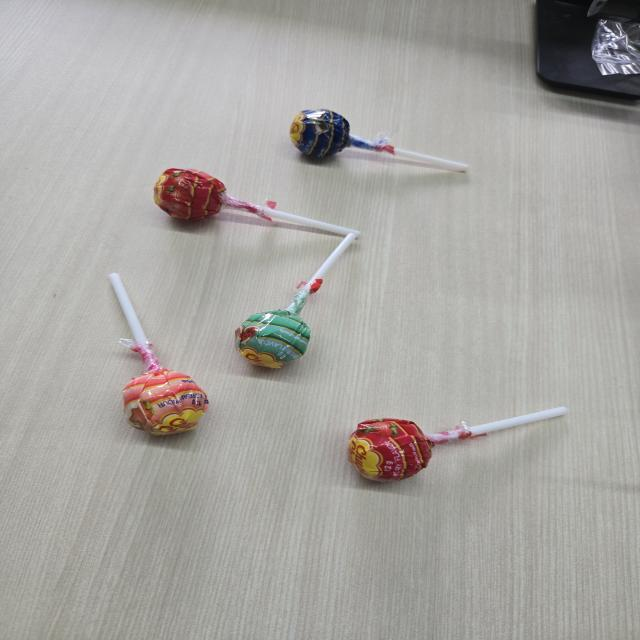lollipop: (227, 230, 360, 376), (108, 267, 214, 442), (349, 406, 573, 488), (147, 162, 363, 241), (287, 102, 471, 178)
